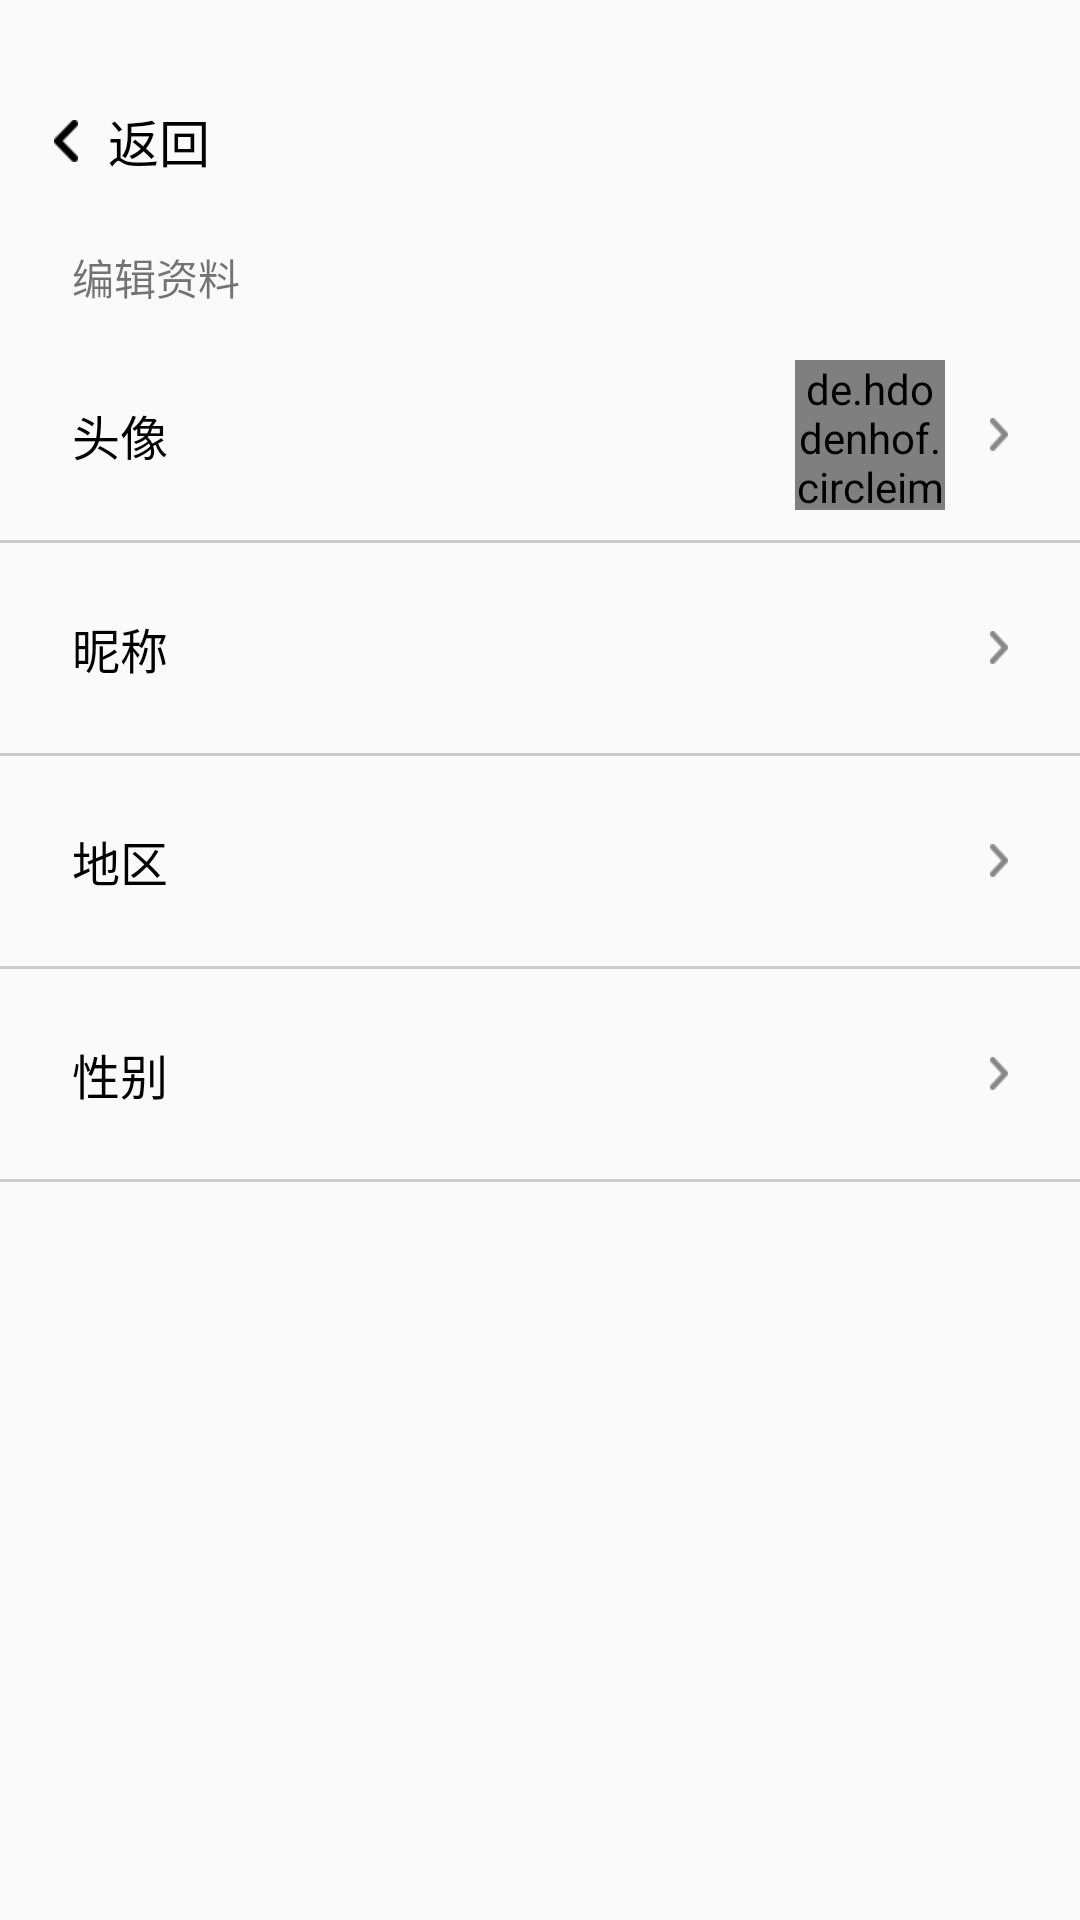

Icons on this 1080 × 1920 Android screen, each with its box as (x1, y1, x2, y2):
backarrow: (54, 120, 78, 162)
